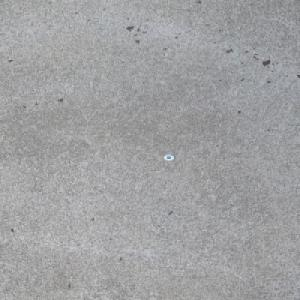Washer: (163, 154, 175, 161)
